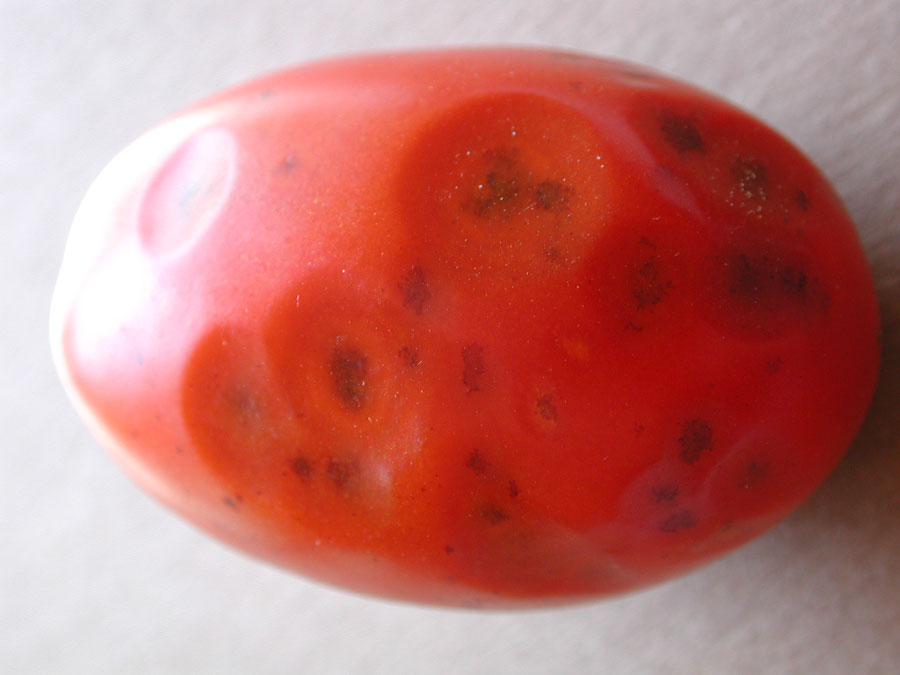anthracnose: (461, 150, 591, 275)
